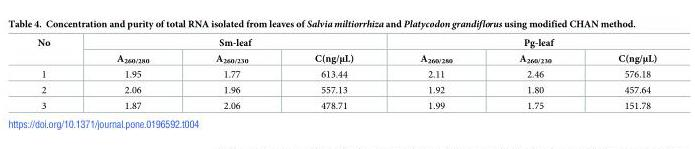table: (36, 37, 656, 110)
table column: (280, 37, 386, 110), (82, 37, 181, 110), (181, 37, 280, 110), (386, 37, 485, 110), (485, 37, 584, 110), (584, 37, 656, 110), (36, 37, 82, 110)
table column header: (36, 37, 656, 66)
table row: (36, 49, 656, 66), (36, 81, 656, 97), (36, 66, 656, 81), (36, 97, 656, 110), (36, 37, 656, 49)
table spanning cell: (82, 37, 386, 49), (386, 37, 656, 49), (36, 37, 82, 66)
